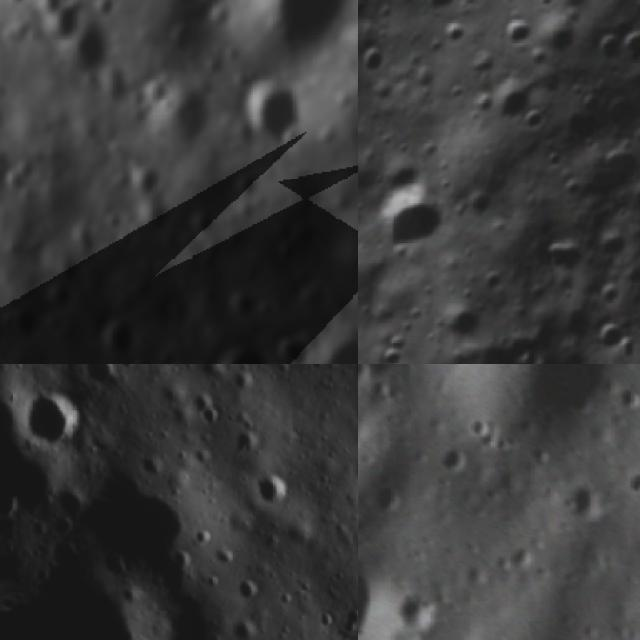crater: (44, 415, 246, 620), (360, 165, 468, 274), (2, 368, 100, 465), (246, 0, 358, 58), (237, 75, 308, 163), (230, 451, 309, 530), (520, 218, 593, 289), (433, 285, 499, 351), (60, 14, 117, 90), (577, 215, 639, 278), (160, 82, 217, 146), (358, 551, 395, 640), (585, 308, 640, 364), (28, 0, 87, 52), (582, 22, 636, 74), (490, 6, 542, 58), (64, 364, 135, 399), (3, 298, 45, 352), (93, 313, 144, 357), (200, 338, 285, 364), (560, 481, 606, 527), (228, 567, 272, 611), (126, 154, 166, 200), (0, 155, 42, 195), (215, 285, 259, 323), (372, 475, 409, 519), (358, 40, 394, 83), (405, 0, 469, 24), (38, 276, 78, 314), (398, 590, 434, 628), (614, 20, 640, 66), (185, 212, 221, 244), (226, 612, 267, 640), (436, 445, 470, 478), (230, 170, 263, 203), (343, 383, 358, 448), (466, 409, 496, 438), (622, 467, 640, 507), (274, 240, 300, 266), (102, 208, 126, 234), (116, 227, 134, 250)
